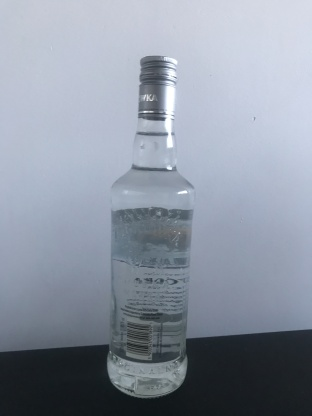nakretka: (136, 52, 178, 120)
